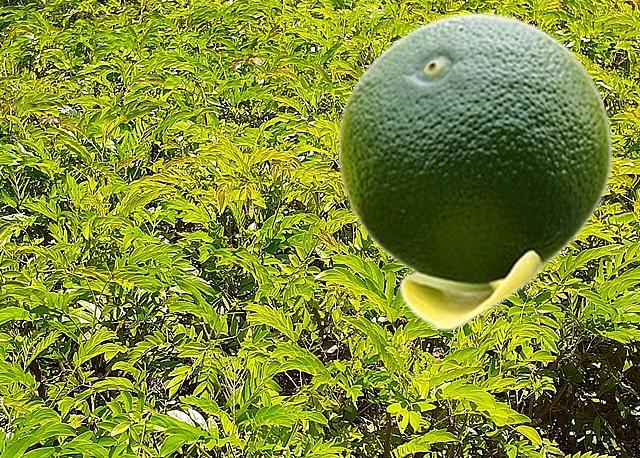calamansi: (337, 12, 612, 330)
